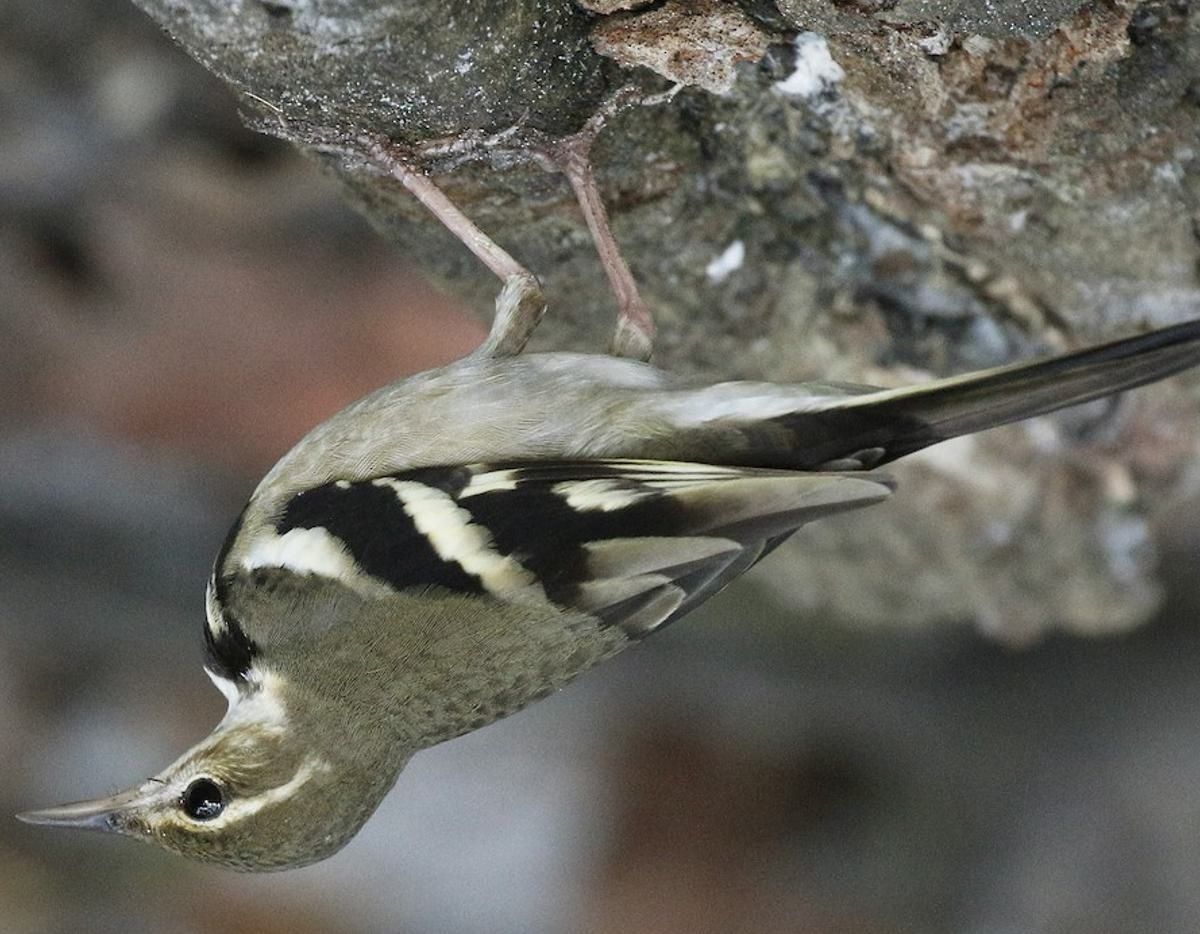wagtail: (25, 263, 1200, 868)
